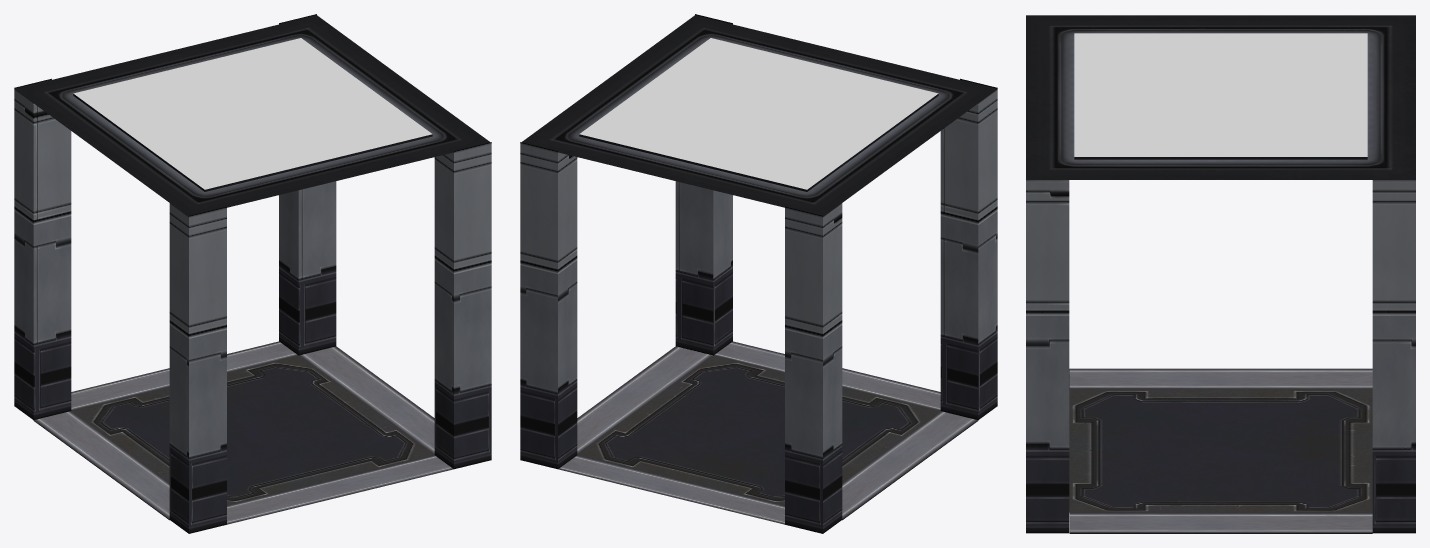
File: Prototypehall4wayLight01.fbx
The picture shows the model from 3 angles, left to right: view 1: azimuth 30°, elevation 25°; view 2: azimuth 150°, elevation 25°; view 3: azimuth 270°, elevation 25°; orthographic projection. The views are drawn at different scales.
Parts seen in each view (by area): view 1: Cube.001; view 2: Cube.001; view 3: Cube.001.
Boxes of the visible parts, x1,y1,x2,y2 form: Cube.001: (14,14,491,533); Cube.001: (520,14,997,533); Cube.001: (1026,15,1415,533).
Bounding box in the file's own units: 200 × 202 × 200.
